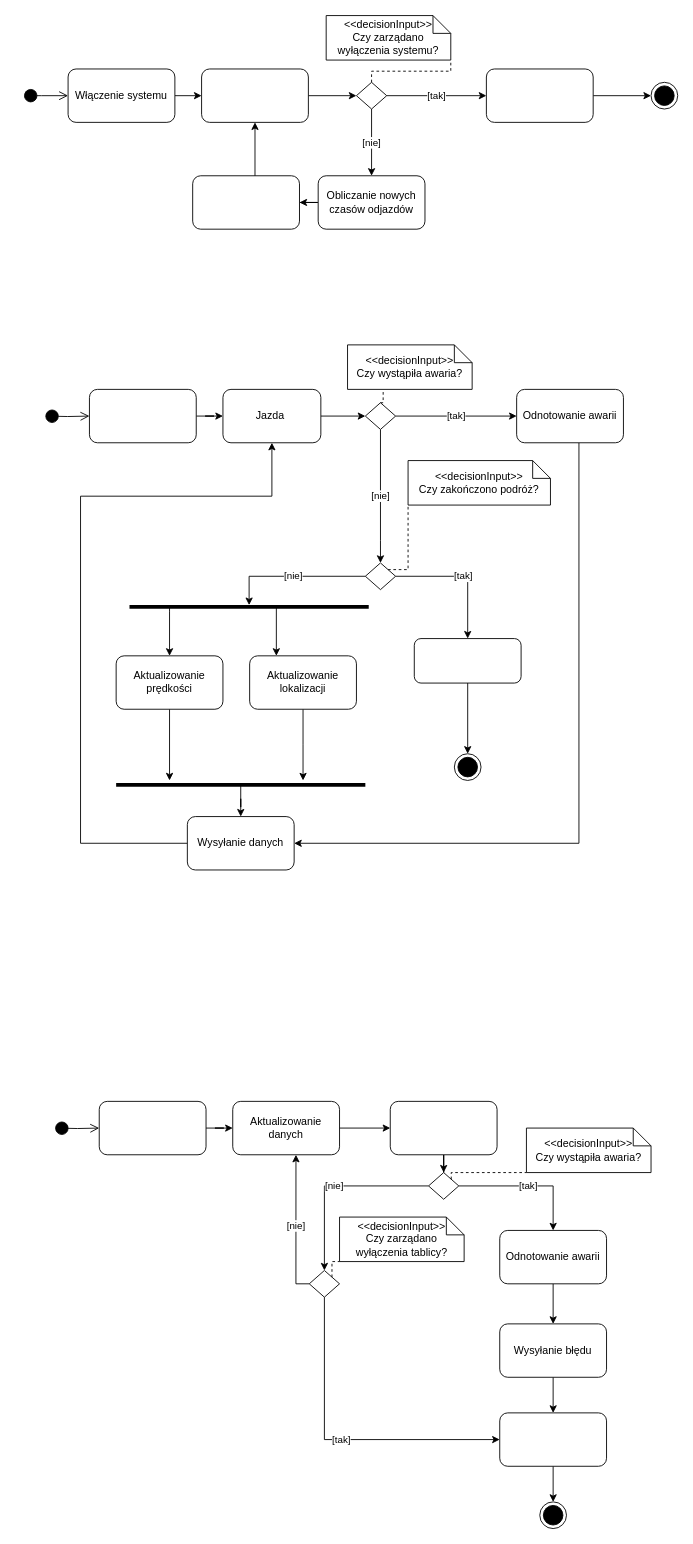
The diagram is 693 pixels wide and 1544 high, and some of its shapes have lost their labels. Here are the shapes that lost their labels. From the top down, the box of each, then its label:
(201, 68, 308, 122): Oczekiwanie na dane
(485, 68, 593, 122): Wyłączenie systemu
(192, 175, 299, 229): Wysyłanie danych do wyświetlenia
(89, 388, 196, 443): Włączenie autobusu
(413, 638, 521, 683): Wyłączenie autobusu
(98, 1100, 206, 1155): Włączenie tablicy
(389, 1100, 497, 1155): Oczekiwanie
(499, 1412, 607, 1466): Wyłączanie tablicy
